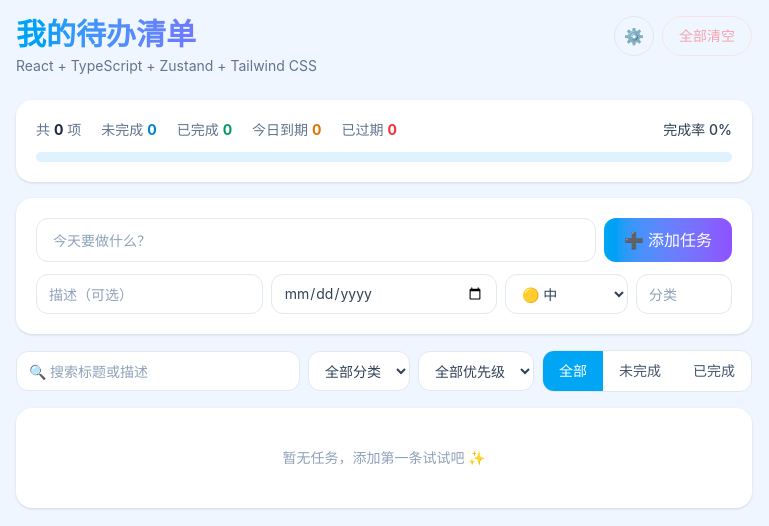
Test case: App 主流程（规格 1/6） › 全部清空：无任务时按钮禁用，点击确认后清空
The width and height of the screenshot is (769, 526).
Check: the button "全部清空" is disabled, box [662,16,752,56]
Type "买牛奶" into the field named "任务标题".
click(316, 240); type("买牛奶")  # box [36,218,596,262]
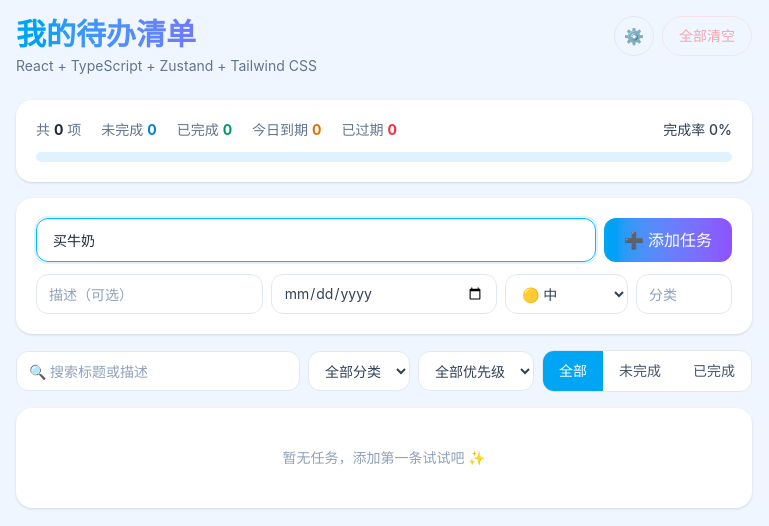
Click the button "➕ 添加任务".
click(668, 240)  # box [604,218,732,262]
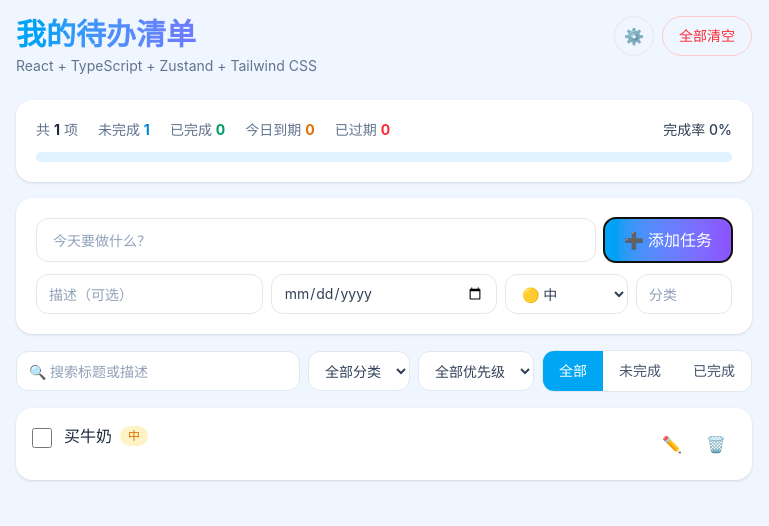
Click the button "全部清空".
click(707, 36)  # box [662,16,752,56]
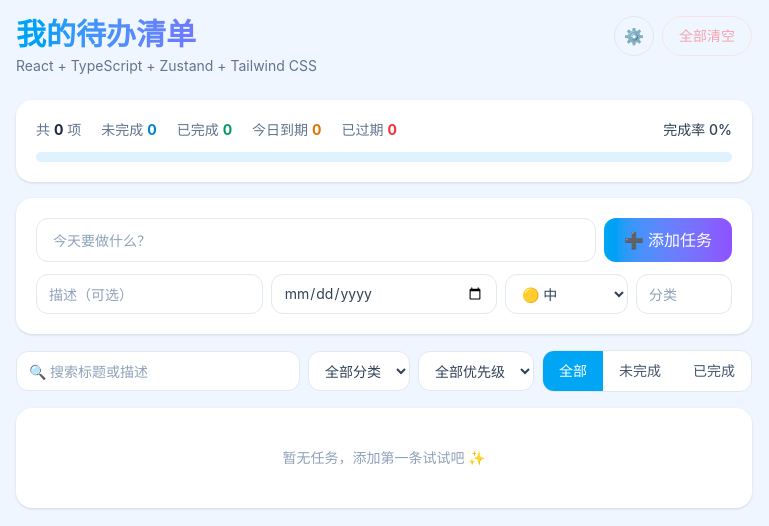
Check: the button "全部清空" is disabled, box [662,16,752,56]
